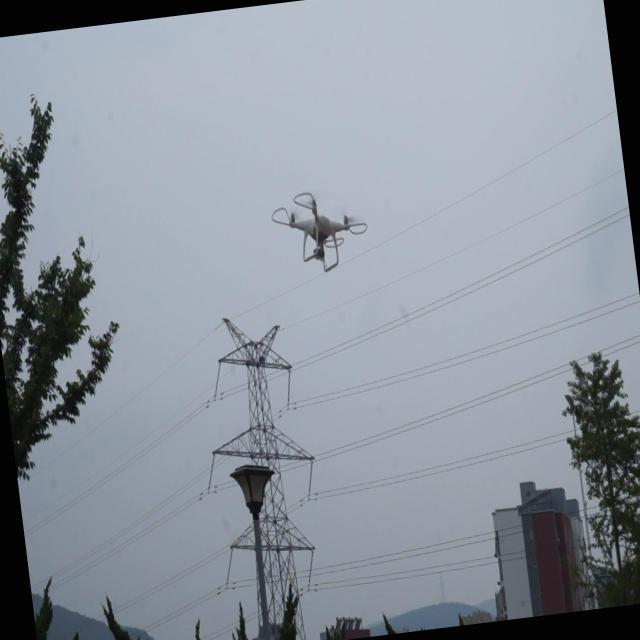drone: (266, 180, 373, 286)
